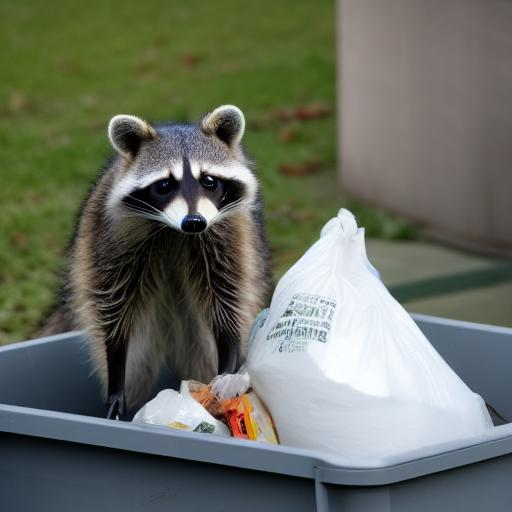raccoon: (60, 96, 275, 369)
